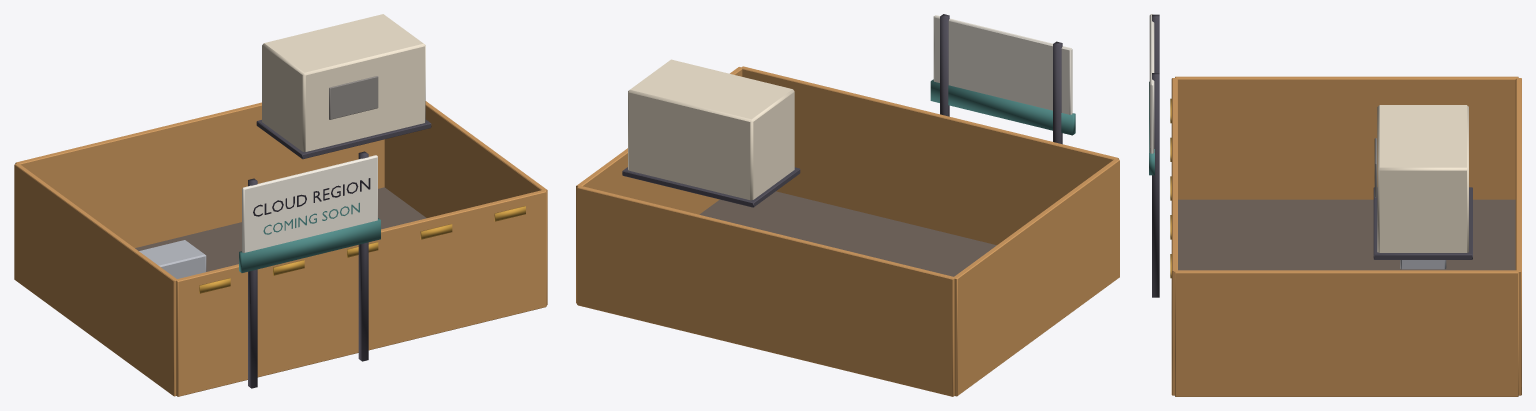
File: era_datacentre_plot.glb
3 views of the same model, side by side, from view 1: azimuth 30°, elevation 25°; view 2: azimuth 150°, elevation 25°; view 3: azimuth 270°, elevation 25° (orthographic). The views are drawn at different scales.
Visible parts, largest first — view 1: era_datacentre_plot; view 2: era_datacentre_plot; view 3: era_datacentre_plot.
Boxes of the visible parts, box(x1,y1,x2,y2) form: era_datacentre_plot: box(14, 14, 547, 396); era_datacentre_plot: box(576, 14, 1119, 396); era_datacentre_plot: box(1149, 14, 1521, 396).
Bounding box in the file's own units: 6.08 × 3.2 × 4.89.
